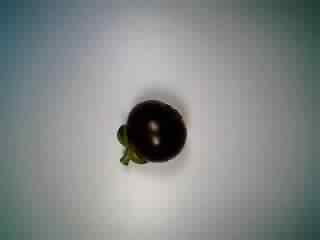mangosteen: (115, 97, 190, 170)
